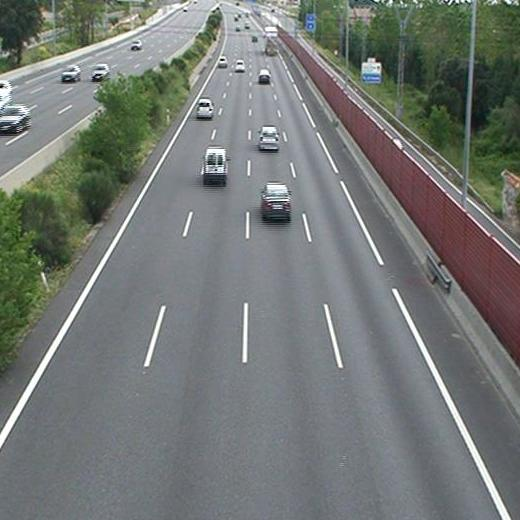car: (261, 184, 292, 214), (258, 127, 280, 149), (196, 98, 213, 116), (258, 69, 271, 82), (234, 61, 246, 72), (218, 57, 227, 68)
truck: (265, 27, 277, 53)
van: (203, 148, 228, 180)
